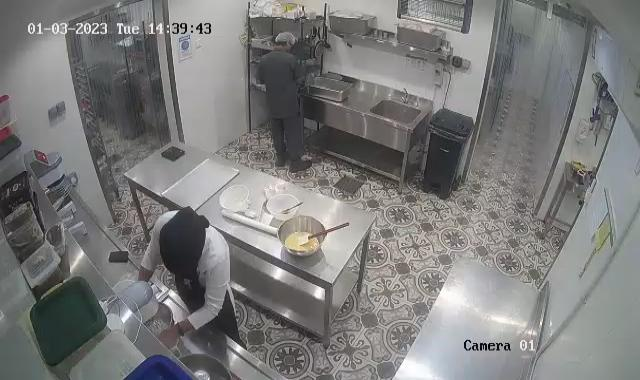hairnet: (274, 30, 296, 49)
no_hairnet: (158, 204, 209, 277)
